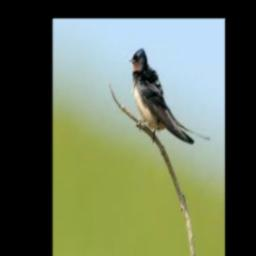Swallow: (130, 48, 210, 145)
